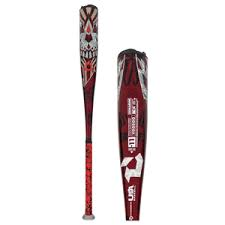baseball bat: (115, 47, 148, 221)
